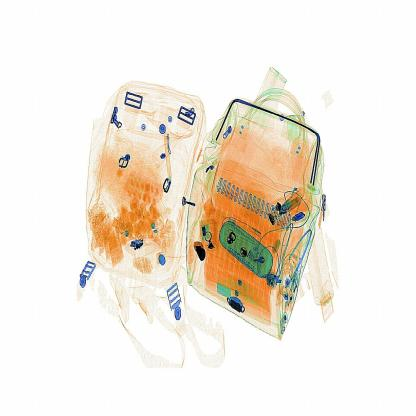wrench: (189, 240, 208, 269)
